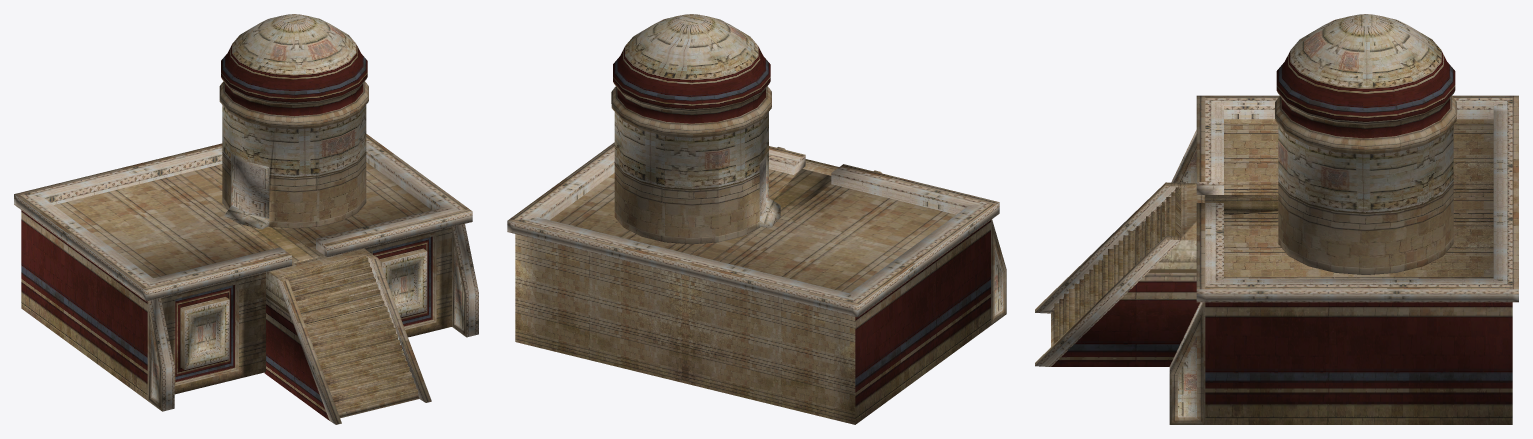
The model's file is Tok_building3.dae.
3 views of the same model, side by side, from view 1: azimuth 30°, elevation 25°; view 2: azimuth 150°, elevation 25°; view 3: azimuth 270°, elevation 25° (orthographic). The views are drawn at different scales.
Visible parts, largest first — view 1: meshU3D; view 2: meshU3D; view 3: meshU3D.
Part boxes in pixels (x1=…): meshU3D: x1=14, y1=14, x2=478, y2=424; meshU3D: x1=507, y1=14, x2=1006, y2=424; meshU3D: x1=1035, y1=14, x2=1518, y2=424.
Size of the model in its own units: 480 by 399 by 506.
Materials: 3 (3 with a texture image).
